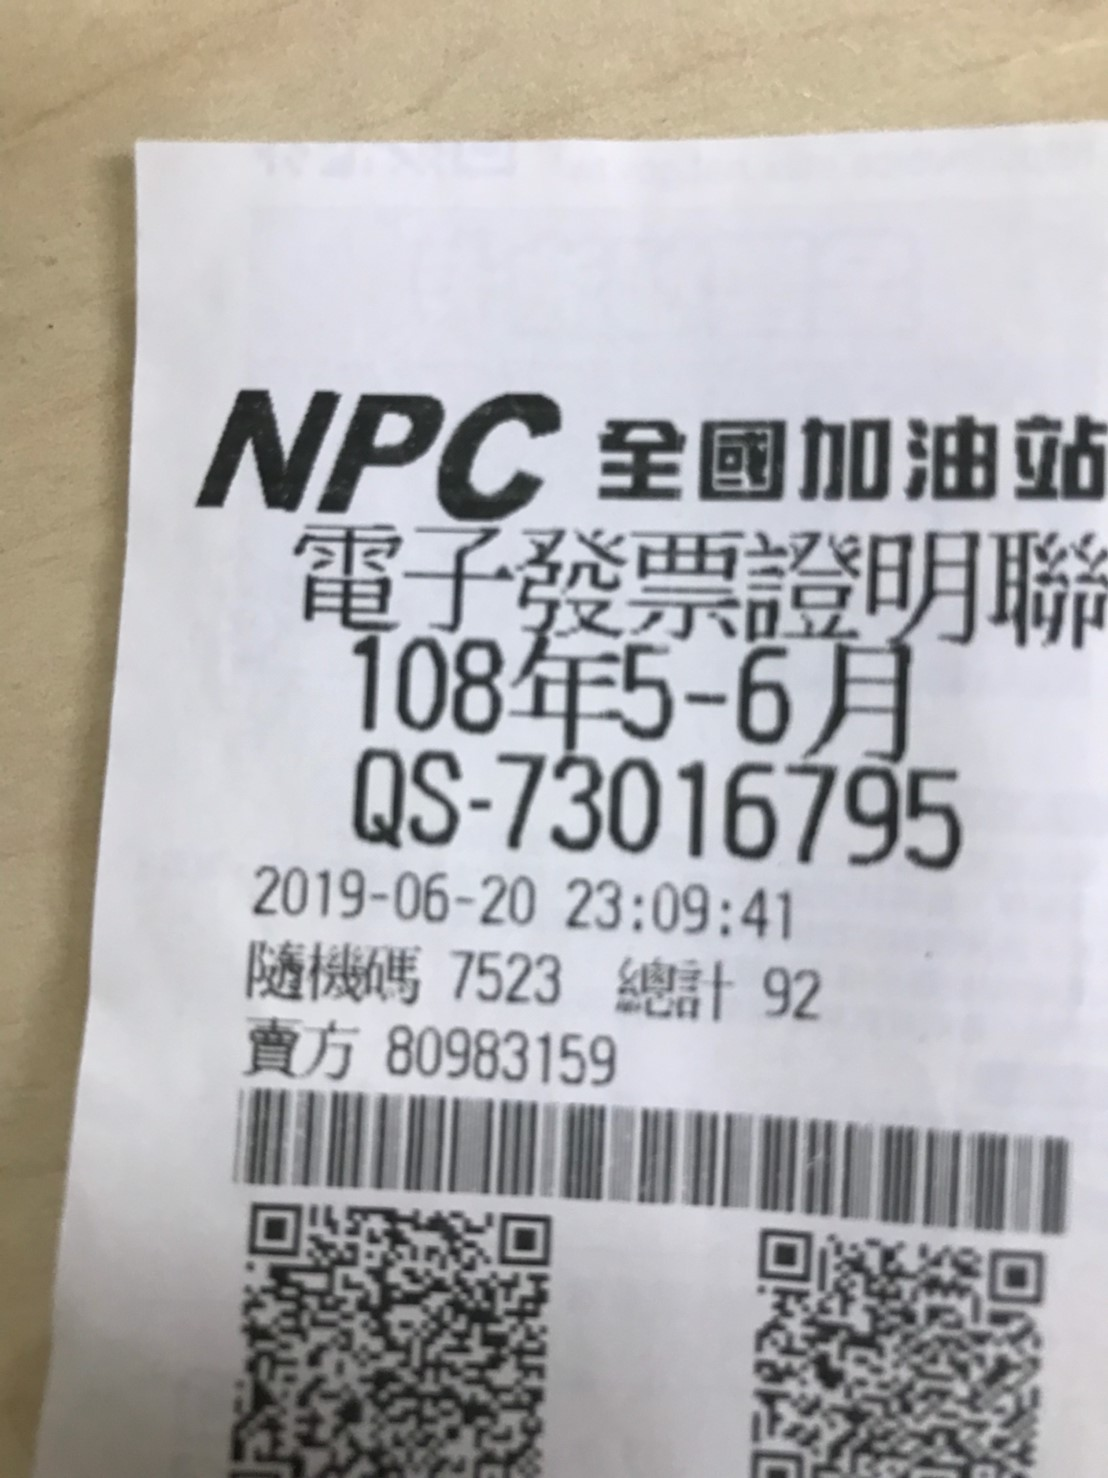Date_New: (347, 632, 922, 766)
Number_New: (493, 748, 970, 876)
